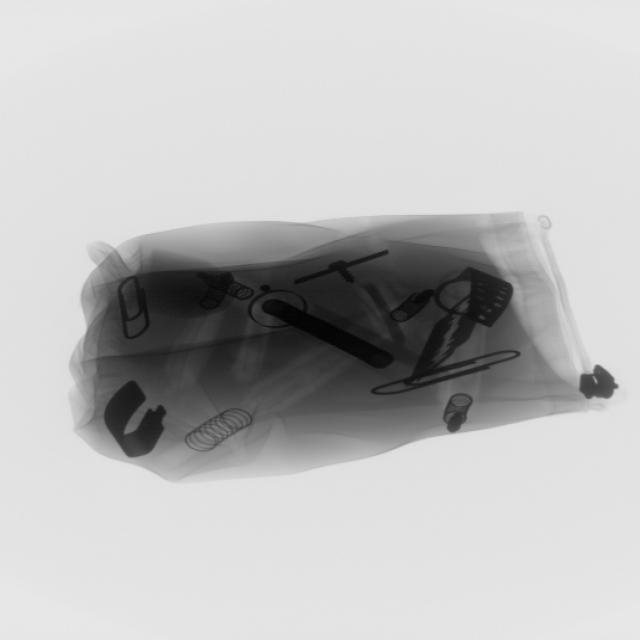BLADE: (394, 301, 509, 389)
